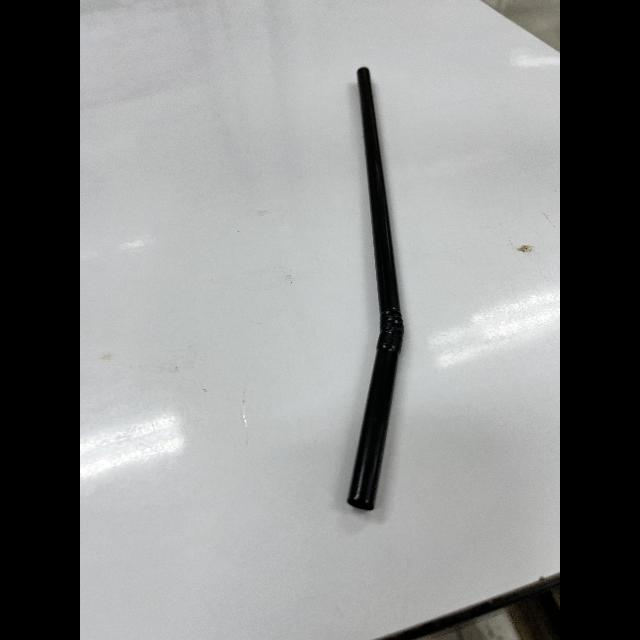straw: (338, 60, 409, 518)
